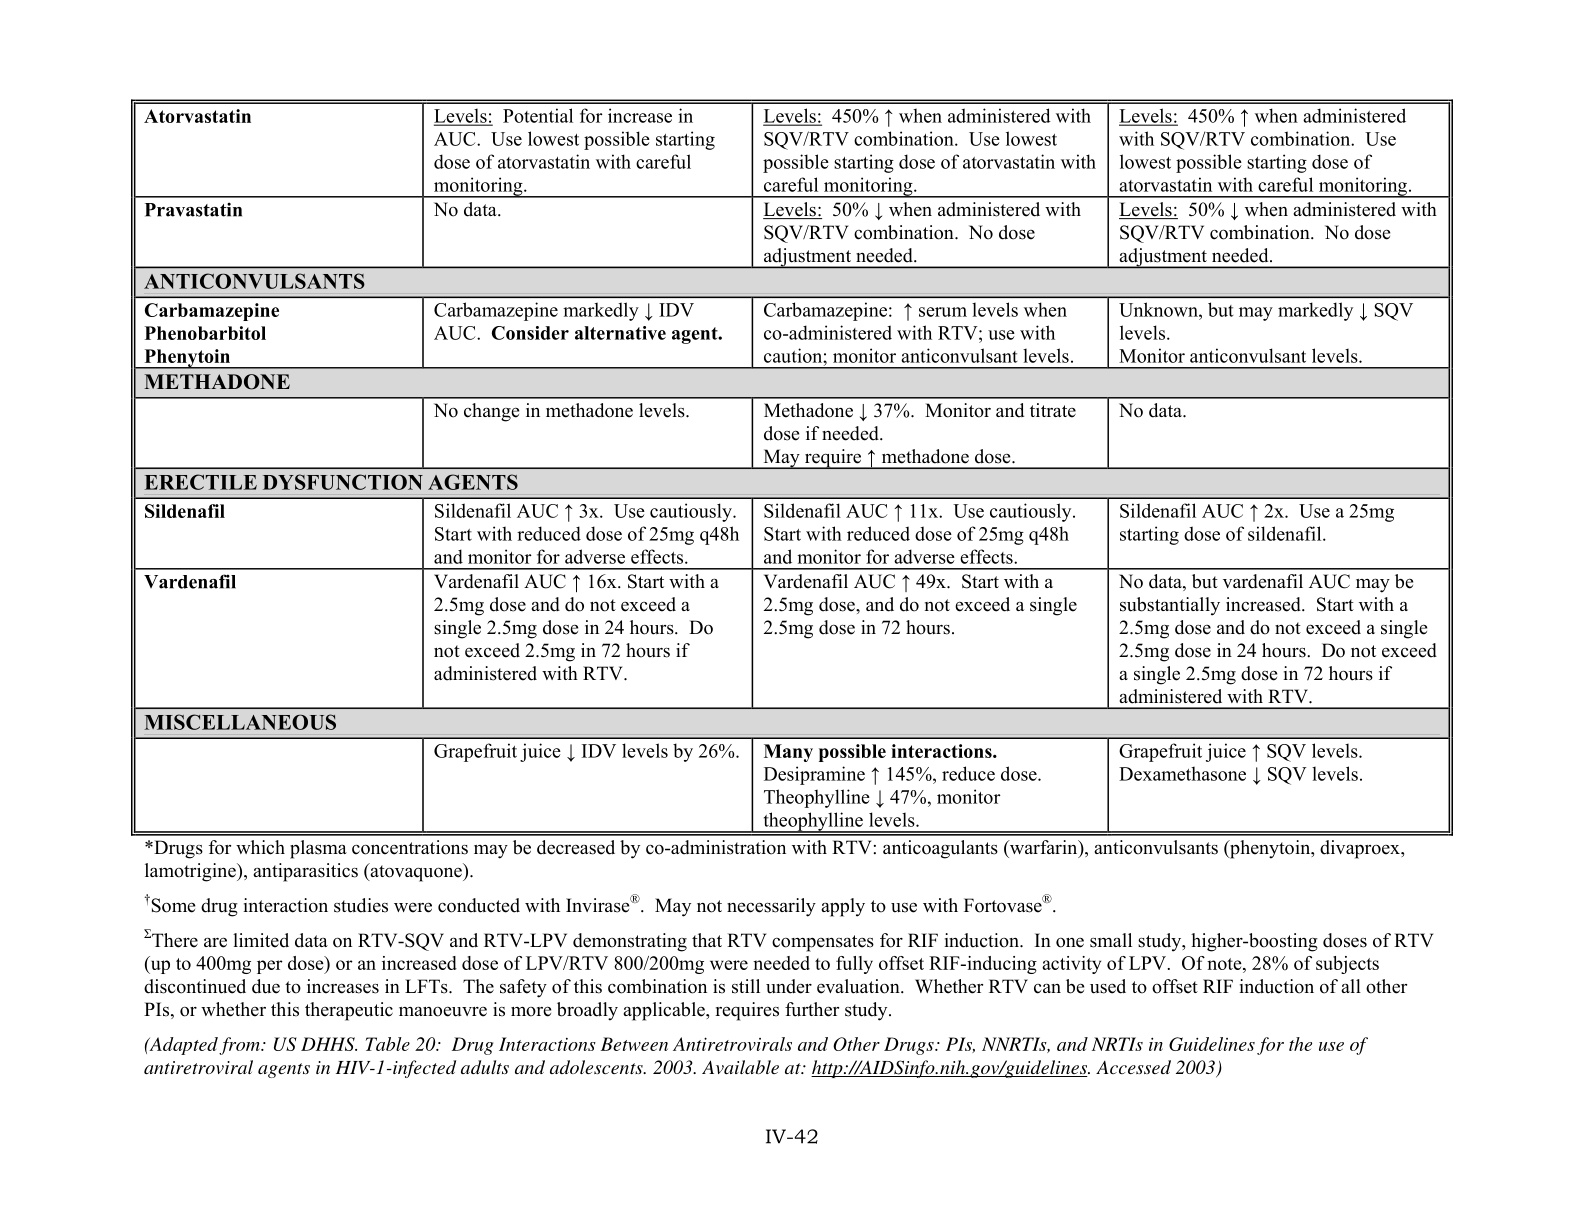merged_cells: (130, 99, 1453, 837)
